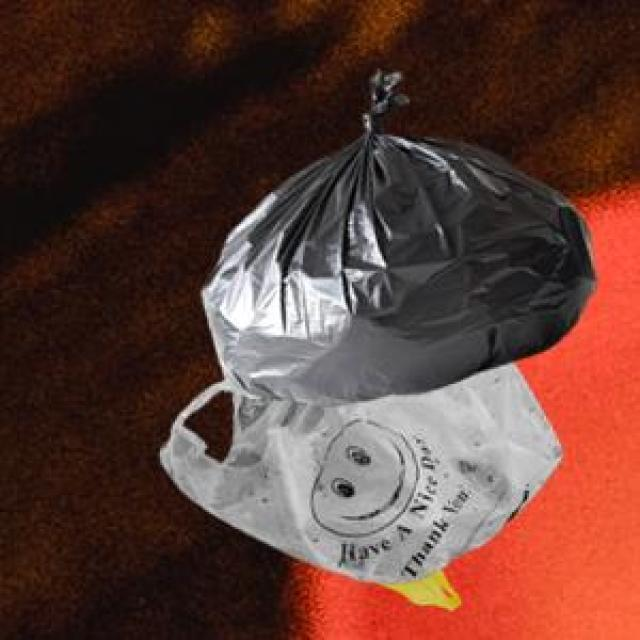miscellaneous trash: (198, 66, 591, 403)
